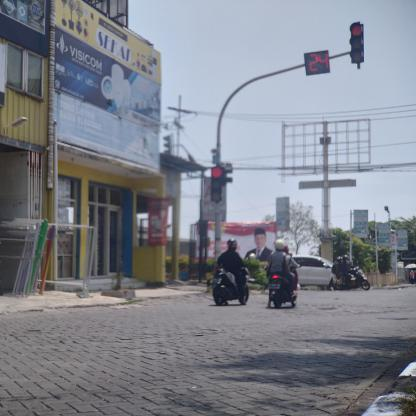red: (349, 22, 365, 64), (212, 166, 223, 202)
